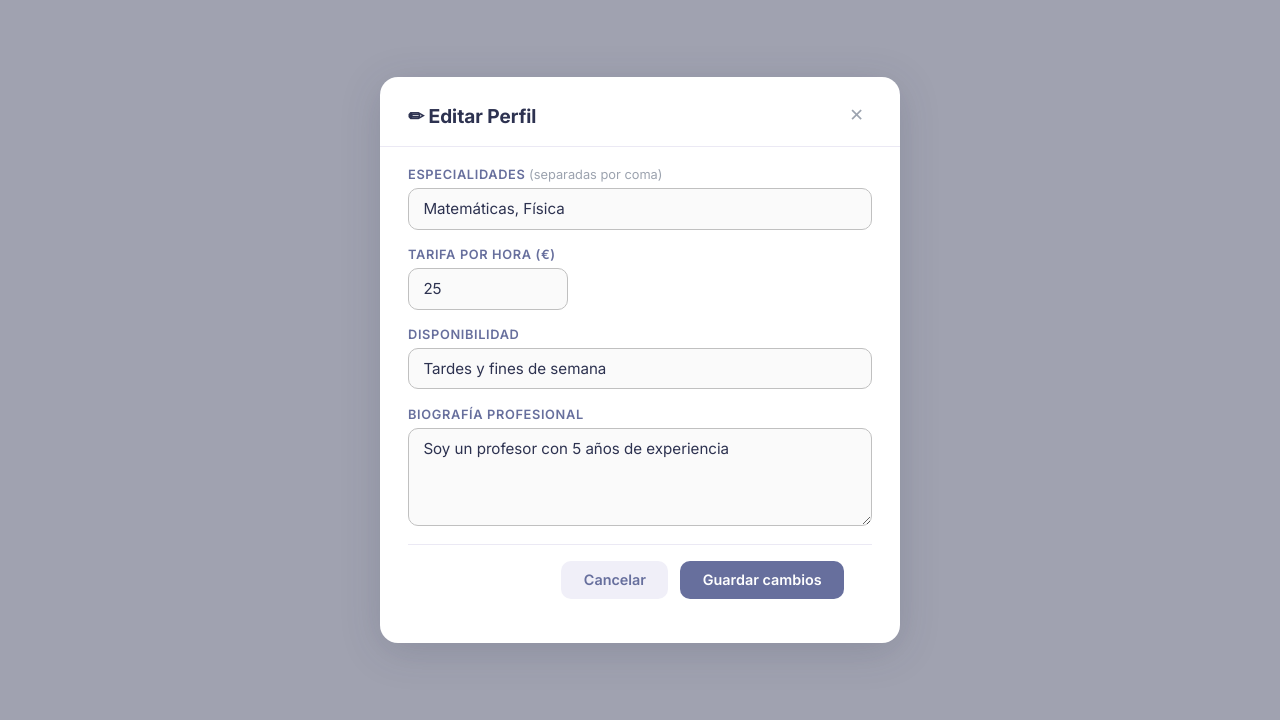
Scenario: EditProfileModal › deshabilita el botón mientras se guarda
The image size is (1280, 720).
What coordinates should you click on to do the following:
click the button "Guardar cambios"
I would click on:
 (762, 580)
Its box is [680, 561, 844, 599].
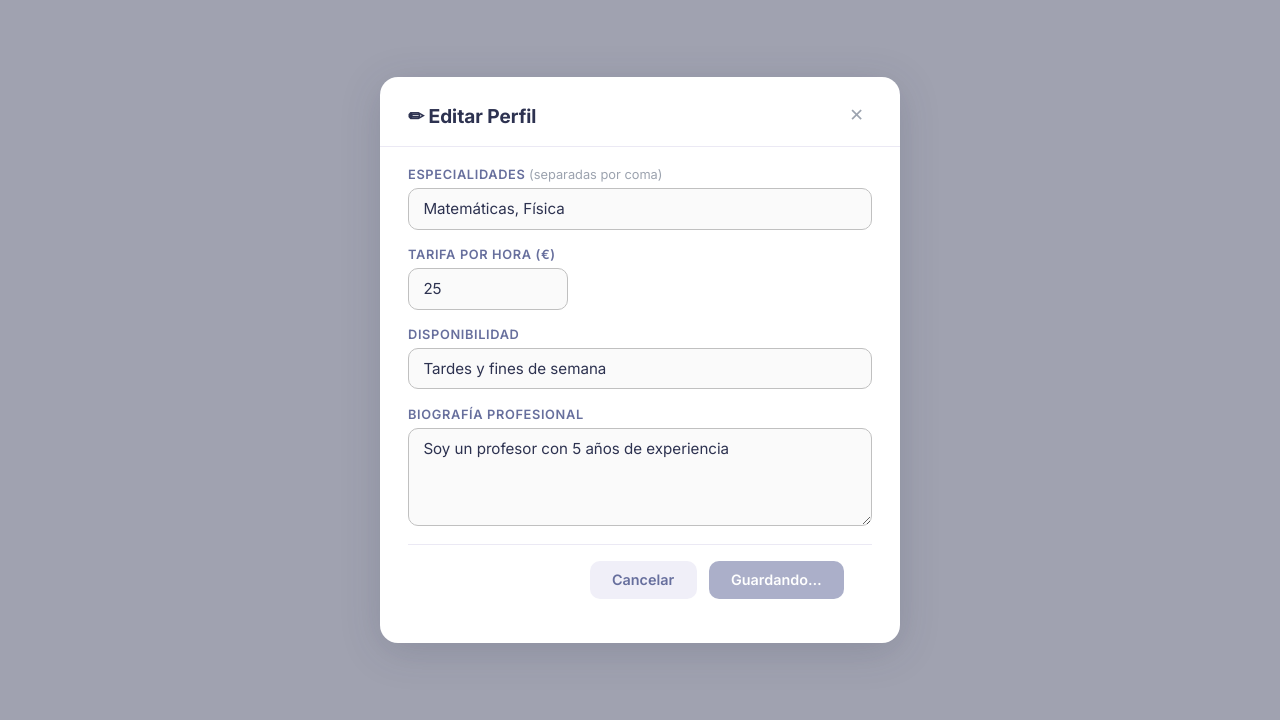
Expected: the button "Guardando…" is disabled, [709, 561, 844, 599]
